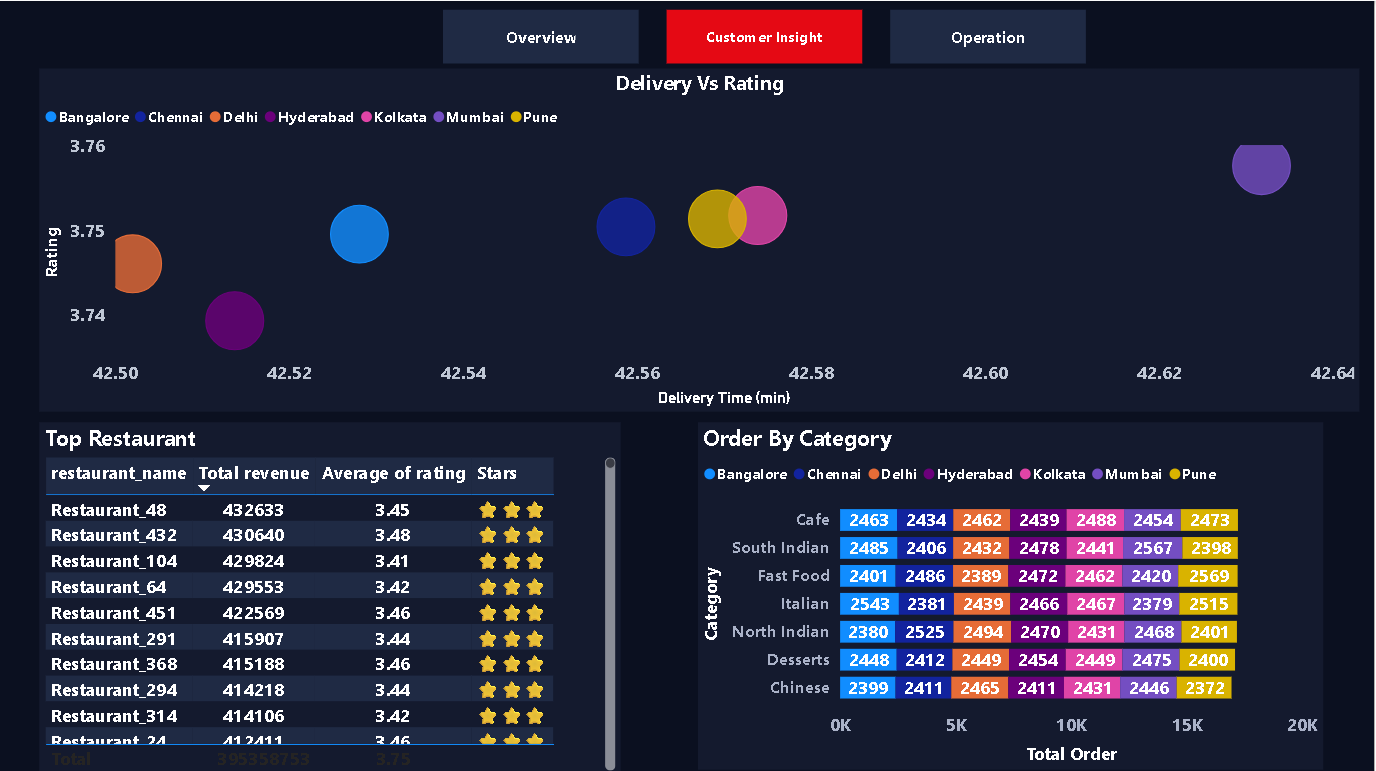

The dashboard page shown, as its layout file describes it:
{"tool":"powerbi","page":{"name":"Customer Insight","canvas":[1280,720],"ordinal":1},"visuals":[{"type":"scatterChart","title":"Delivery Vs Rating","fields":{"Y":["Avg(CleanOrders.rating)"],"Size":["CleanOrders.Total revenue"],"Series":["CleanOrders.city"],"X":["Avg(CleanOrders.delivery_time_min)"]},"box":[38.4,62.4,1228.4,319.4],"z":0},{"type":"barChart","title":"Order By Category","fields":{"Category":["CleanOrders.category"],"Y":["CleanOrders.Total orders"],"Series":["CleanOrders.city"]},"box":[651.2,391.9,581.4,323.3],"z":1000},{"type":"tableEx","title":"Top Restaurant","fields":{"Values":["CleanOrders.restaurant_name","CleanOrders.Total revenue","Avg(CleanOrders.rating)","CleanOrders.Stars"]},"box":[38.4,391.9,540.7,329.1],"z":2000},{"type":"pageNavigator","box":[414,8.1,600,50],"z":3000}]}

Visuals, with their boxes in screenshot pixels (x1, y1, x2, y2), scaled from the page's 1280x720 canvas onto the 1376x771 screenshot:
"Delivery Vs Rating" scatterChart: {"left": 41, "top": 67, "right": 1362, "bottom": 409}
"Order By Category" barChart: {"left": 700, "top": 420, "right": 1325, "bottom": 766}
"Top Restaurant" tableEx: {"left": 41, "top": 420, "right": 623, "bottom": 770}
pageNavigator: {"left": 445, "top": 9, "right": 1090, "bottom": 62}
